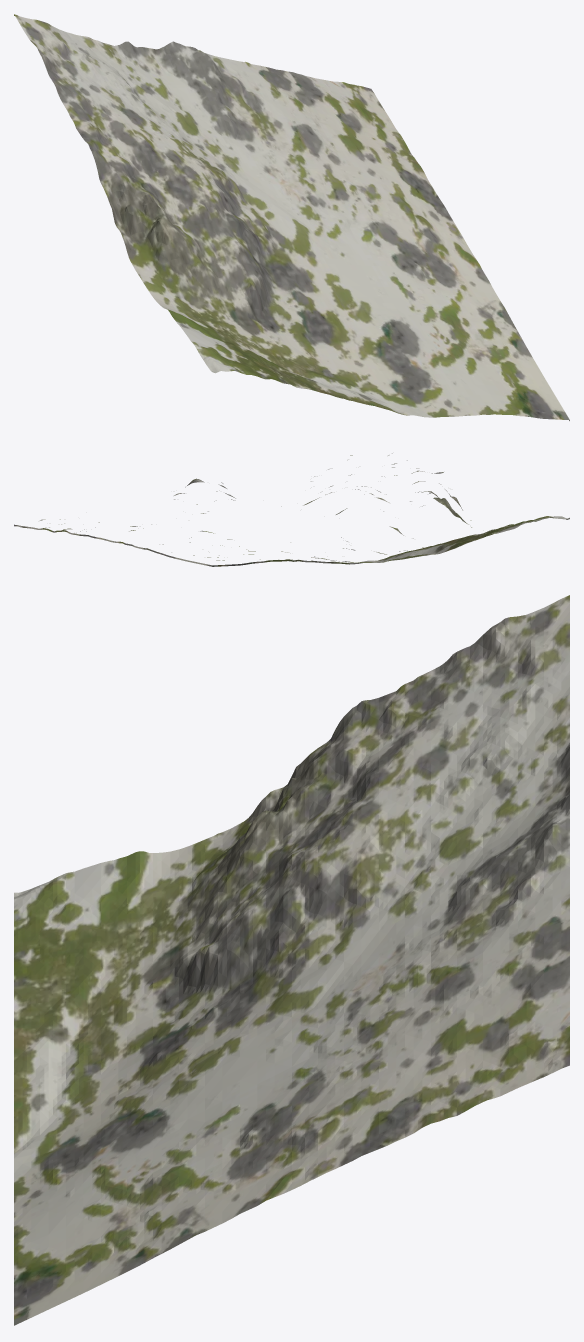
3 renders of one model, top to bottom at view 1: azimuth 30°, elevation 25°; view 2: azimuth 150°, elevation 25°; view 3: azimuth 270°, elevation 25°, orthographic. The views are drawn at different scales.
Bounding box in the file's own units: 250 × 233 × 241.
Materials: 1 (1 with a texture image).
